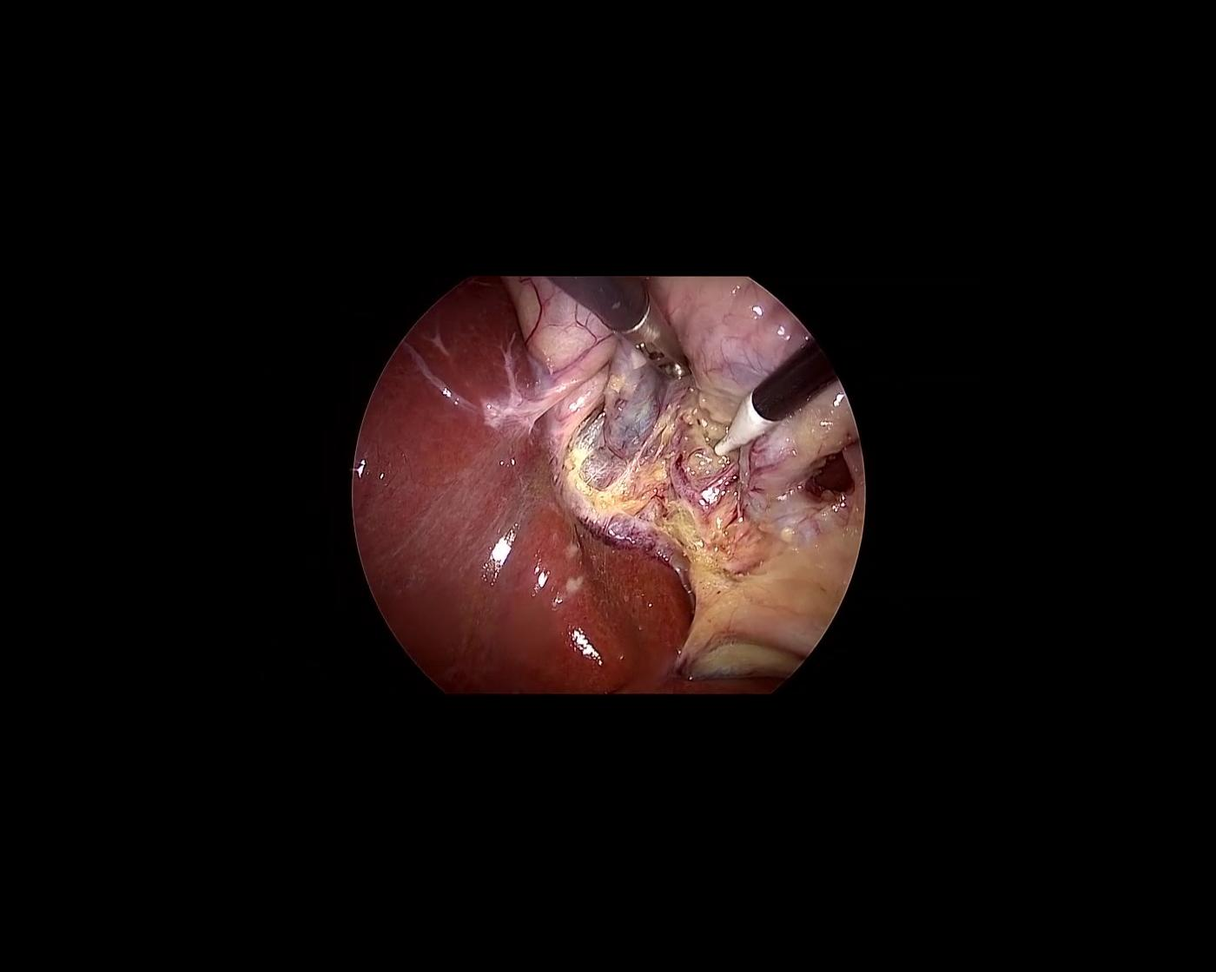Cautery: (693, 337, 841, 462)
Forceps: (544, 230, 708, 404)
Gallbladder: (507, 278, 855, 478)
Liver: (259, 265, 724, 795)
